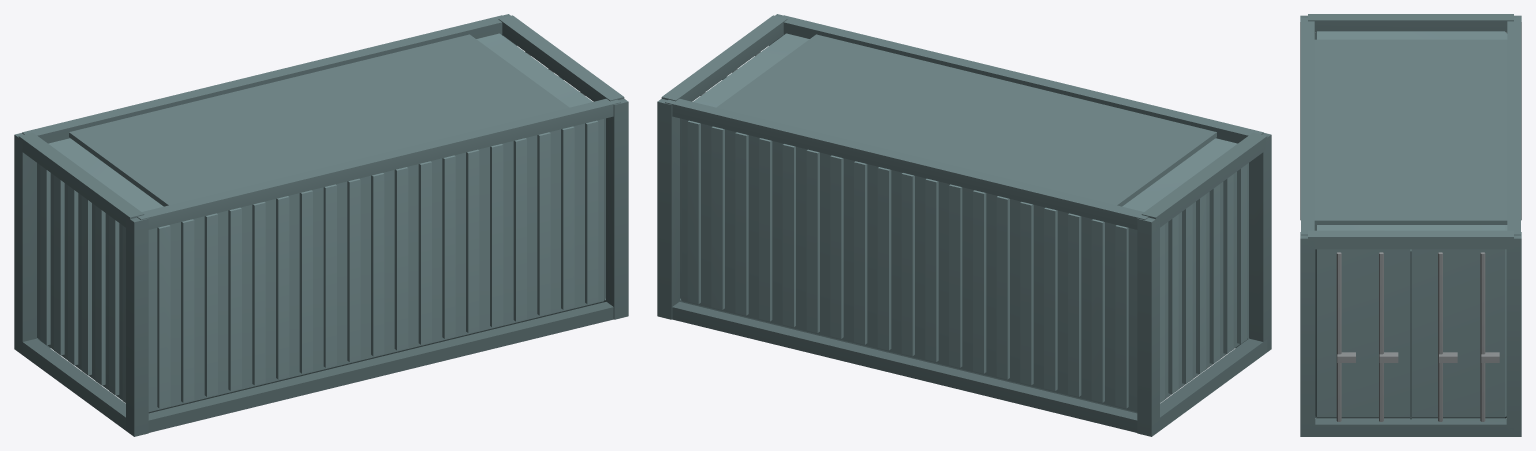
File: mil_container_teal.glb
3 renders of one model, left to right at view 1: azimuth 30°, elevation 25°; view 2: azimuth 150°, elevation 25°; view 3: azimuth 270°, elevation 25°, orthographic. The views are drawn at different scales.
Parts seen in each view (by area): view 1: mil_container_teal; view 2: mil_container_teal; view 3: mil_container_teal.
Boxes of the visible parts, bbox=[...] form: mil_container_teal: bbox=[14, 14, 628, 436]; mil_container_teal: bbox=[657, 14, 1271, 436]; mil_container_teal: bbox=[1300, 14, 1521, 436].
Bounding box in the file's own units: 6.31 × 2.61 × 2.62.
